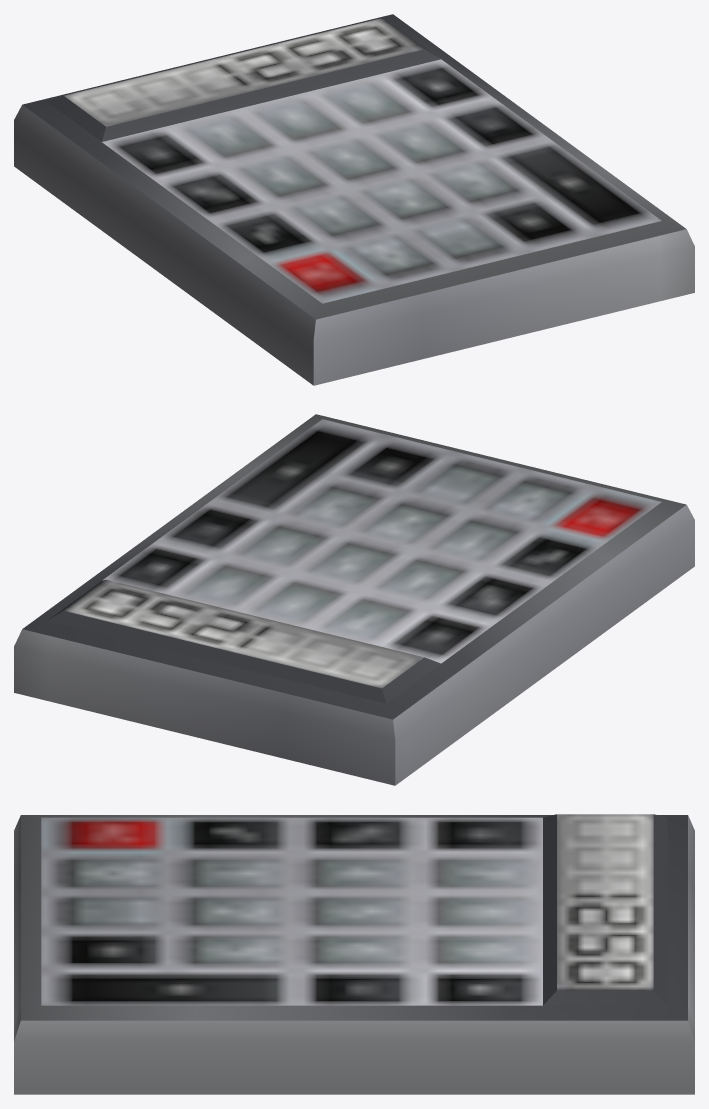
Rendered from Calculator.FBX.
The picture shows the model from 3 angles, top to bottom: view 1: azimuth 30°, elevation 25°; view 2: azimuth 150°, elevation 25°; view 3: azimuth 270°, elevation 25°; orthographic projection. The views are drawn at different scales.
Visible parts, largest first — view 1: Calculator; view 2: Calculator; view 3: Calculator.
Part boxes in pixels (box(x1,y1,x2,y2)): Calculator: box(14, 14, 694, 385); Calculator: box(14, 414, 694, 785); Calculator: box(14, 814, 694, 1094).
Bounding box in the file's own units: 5.34 × 1.02 × 7.28.
